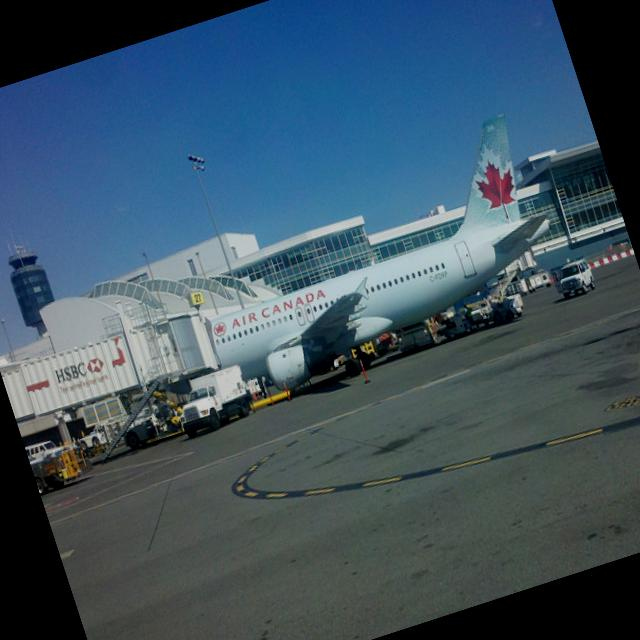Vehicle: (169, 361, 258, 440), (555, 254, 600, 301), (118, 410, 161, 451), (395, 321, 436, 356), (72, 426, 108, 454), (439, 312, 468, 342)
